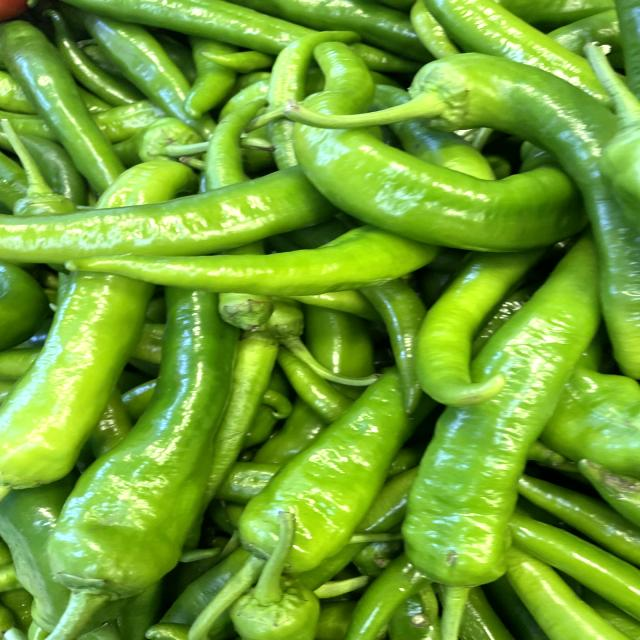green pepper: (0, 15, 153, 188)
